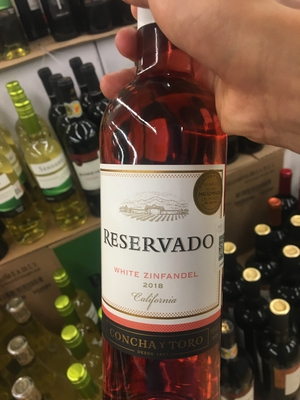reservado white zinfandel: (97, 27, 234, 400)
